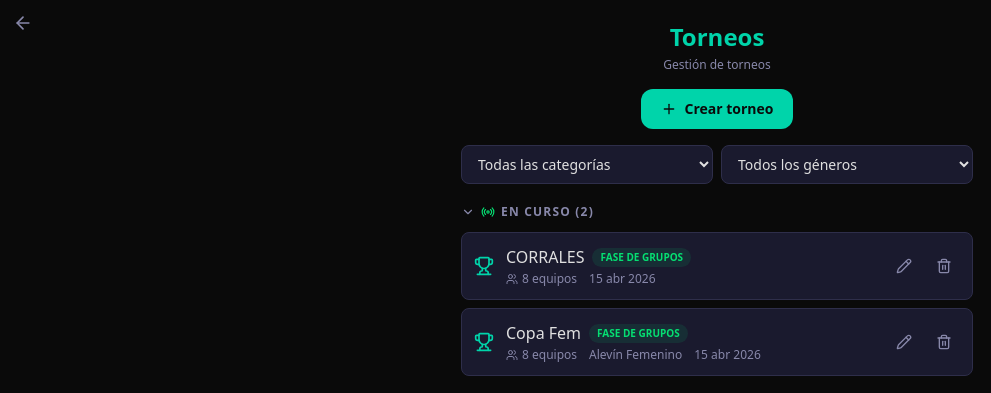
AdminTorneosPage › shows tournaments with null gender when a gender filter is active
Check: the text "CORRALES" is shown, box [506,245,584,269]
Step 1. Select "Masculino" in the 2nd dropdown showing "Todos los géneros" → x=847, y=164, box [721,145,973,184]
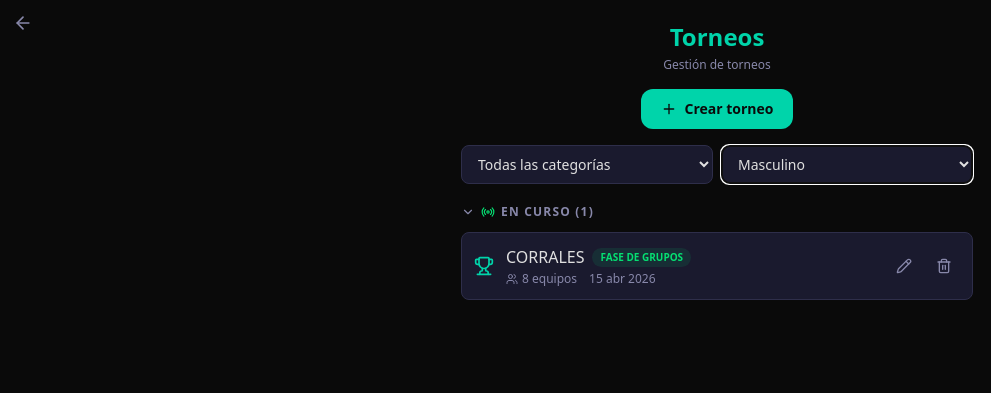
Check: the text "CORRALES" is shown, box [506,245,584,269]
Check: the link "Copa Fem" is gone
